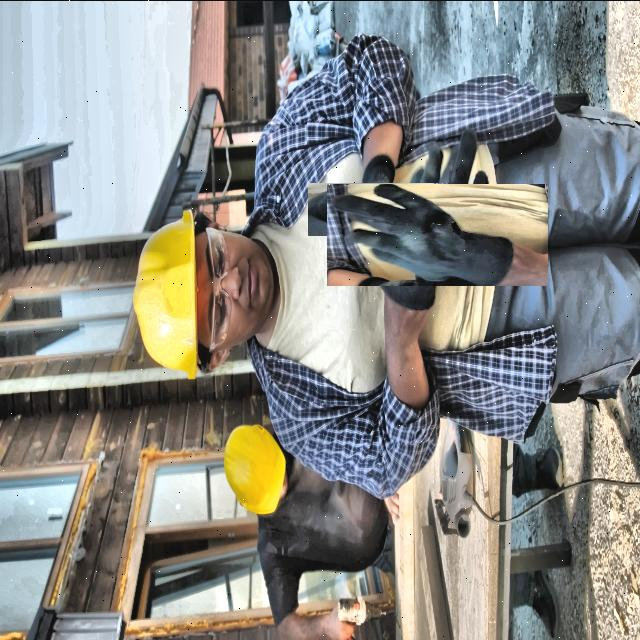gloved: (356, 153, 518, 315), (330, 160, 428, 257)
